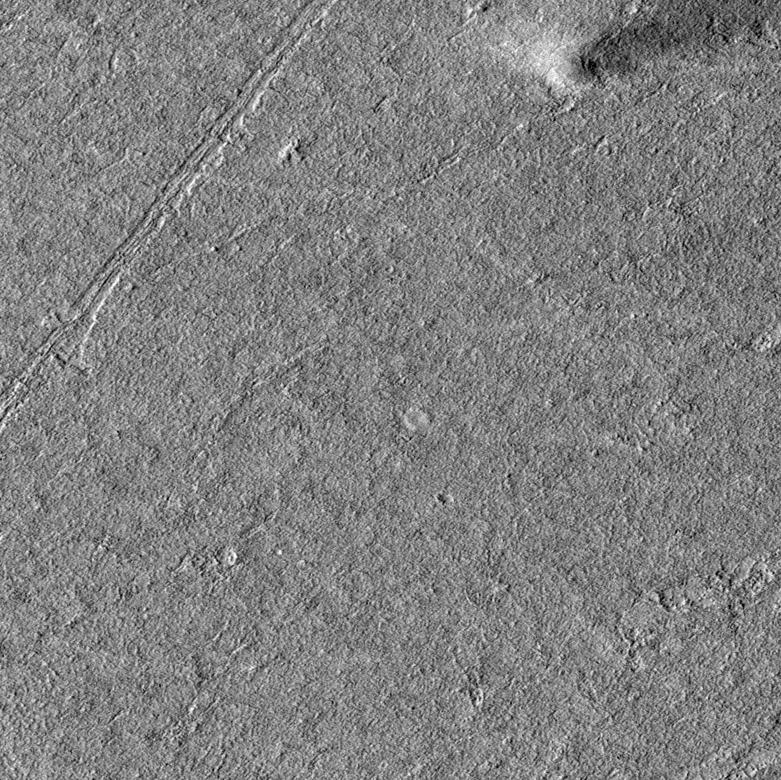dust_devil: (497, 1, 781, 91)
